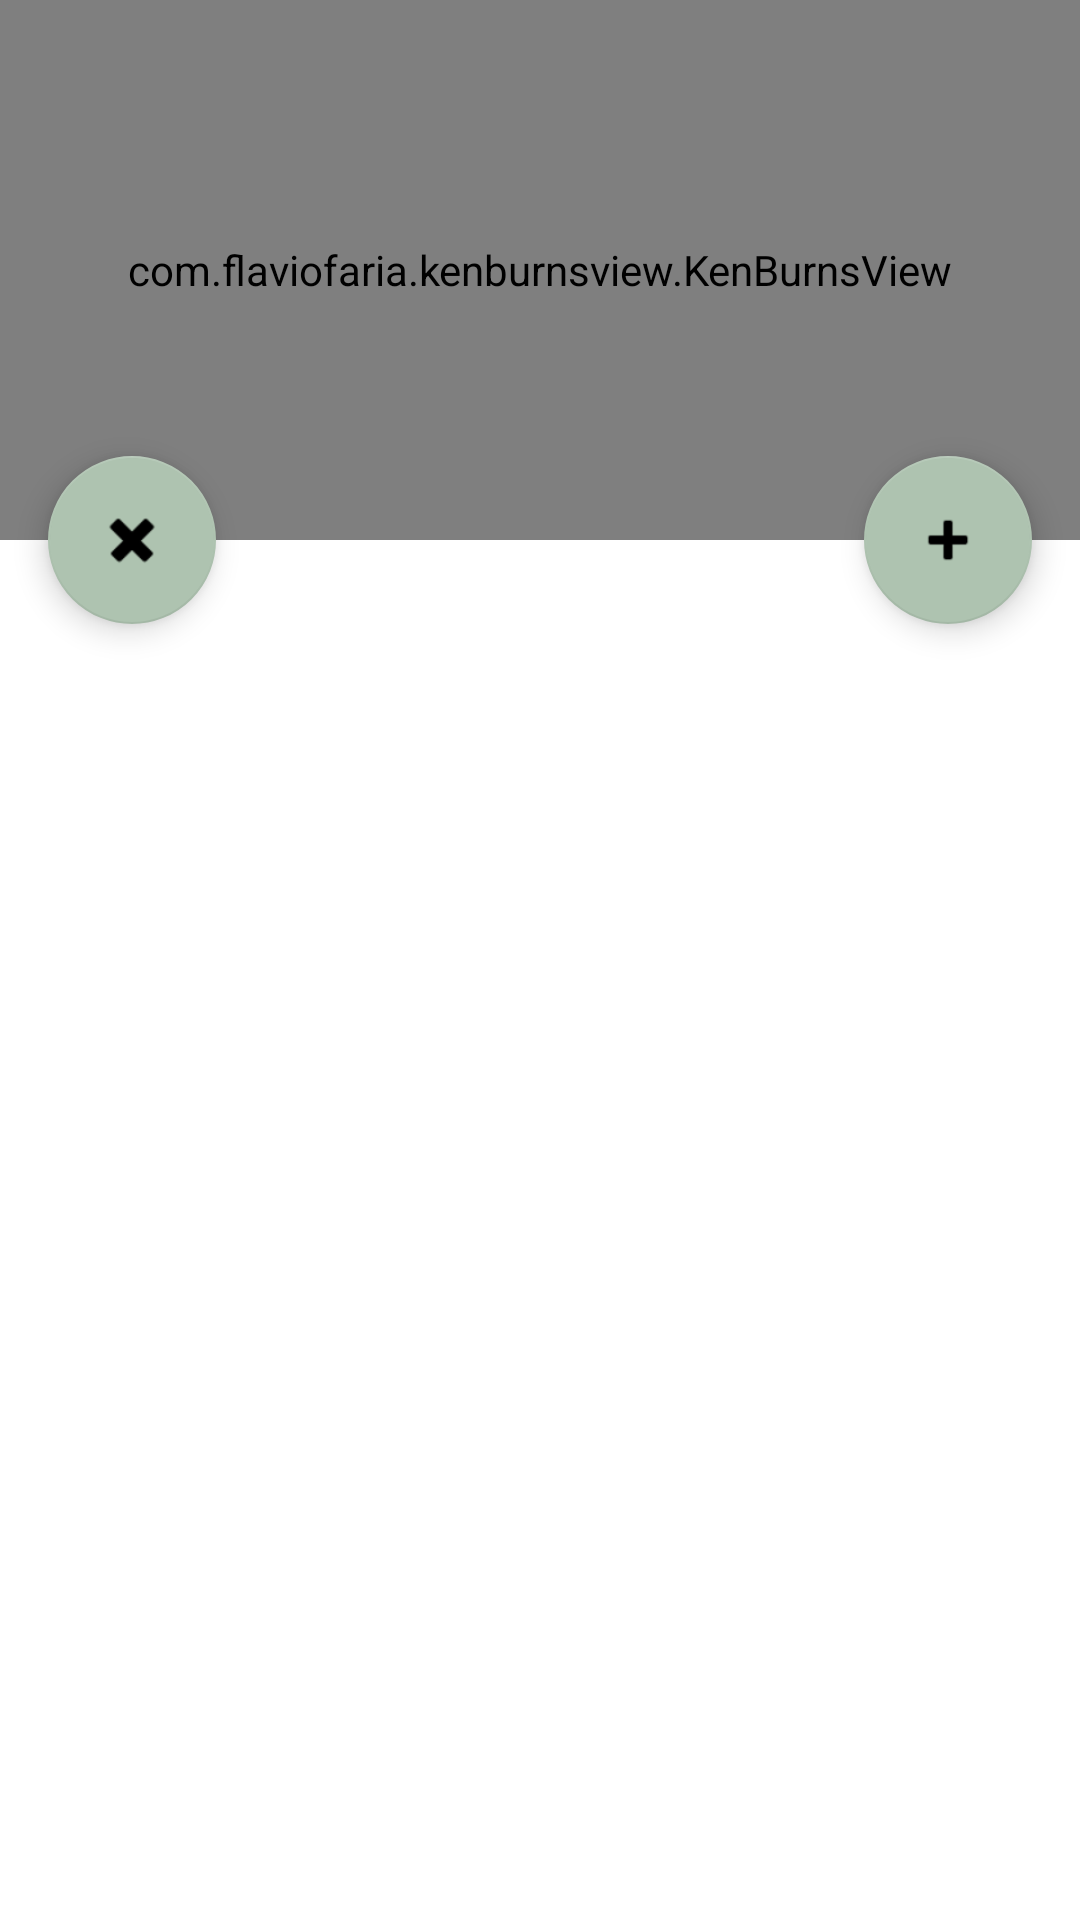

Where to tap for icons on this 1080 × 1920 app screen, as (x,y):
add: (948,540)
delete: (132,540)
